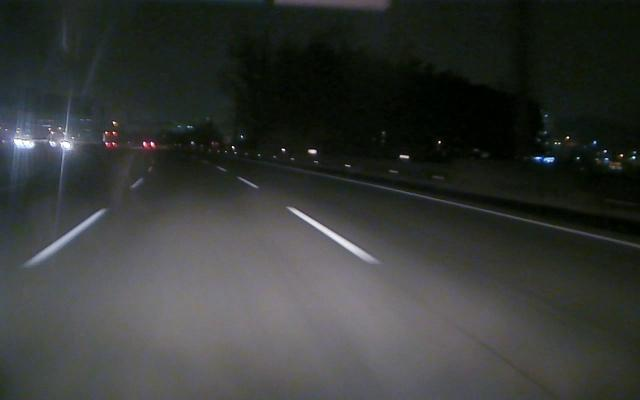lane: (324, 174, 638, 249), (241, 179, 384, 263), (12, 180, 143, 270)
